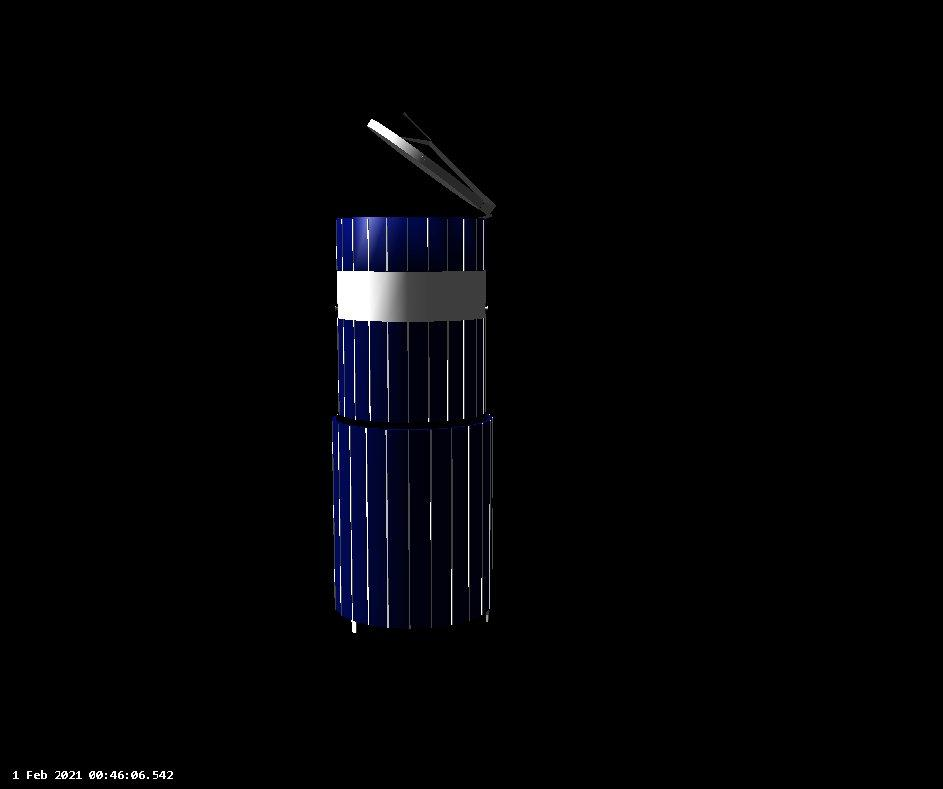antenna: (364, 114, 500, 217)
body: (331, 212, 497, 638)
